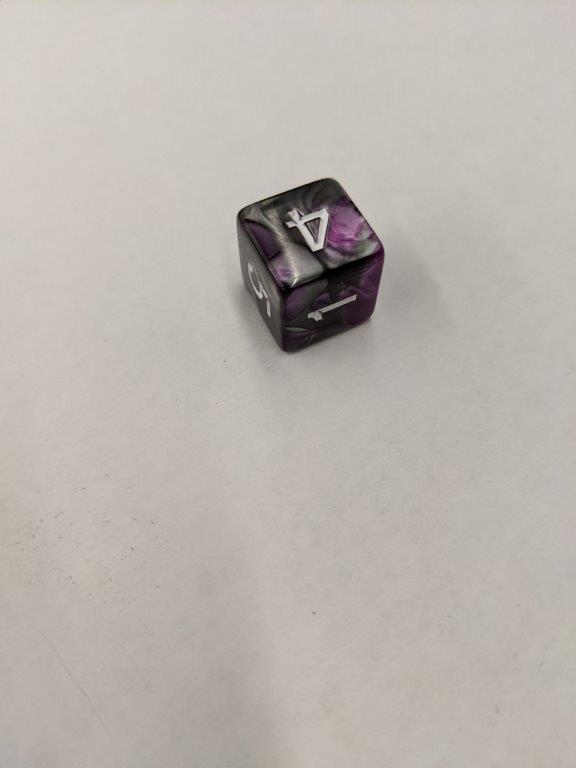d6-4: (237, 176, 385, 353)
